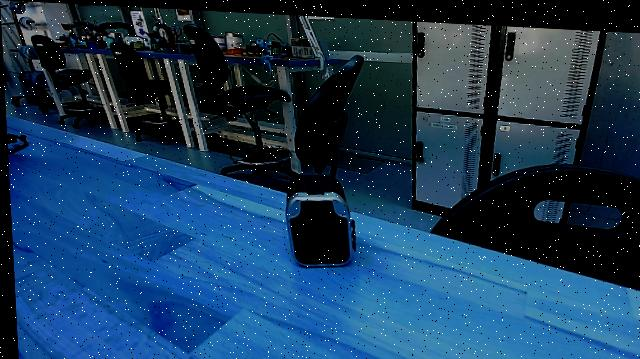adapter: (277, 167, 359, 269)
